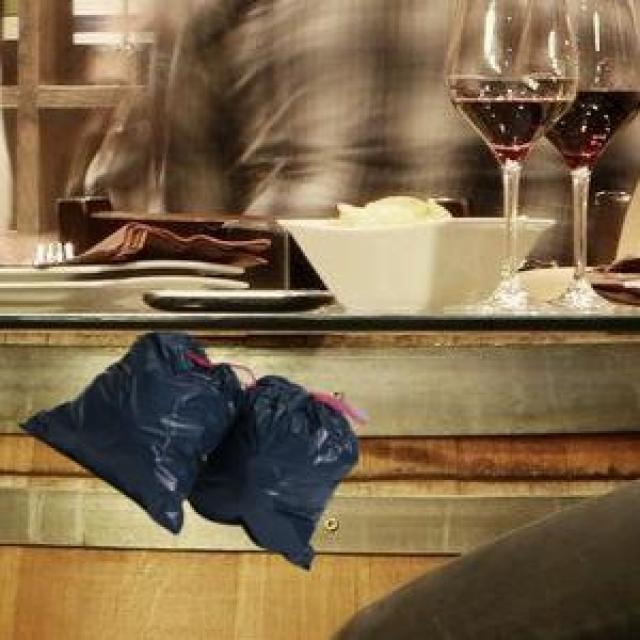Vinyl: (22, 334, 358, 568)
